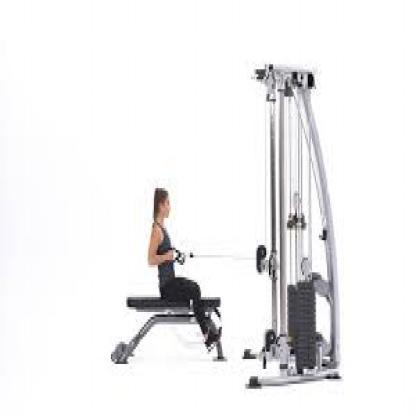Seated Cable Rows: (108, 56, 345, 394)
